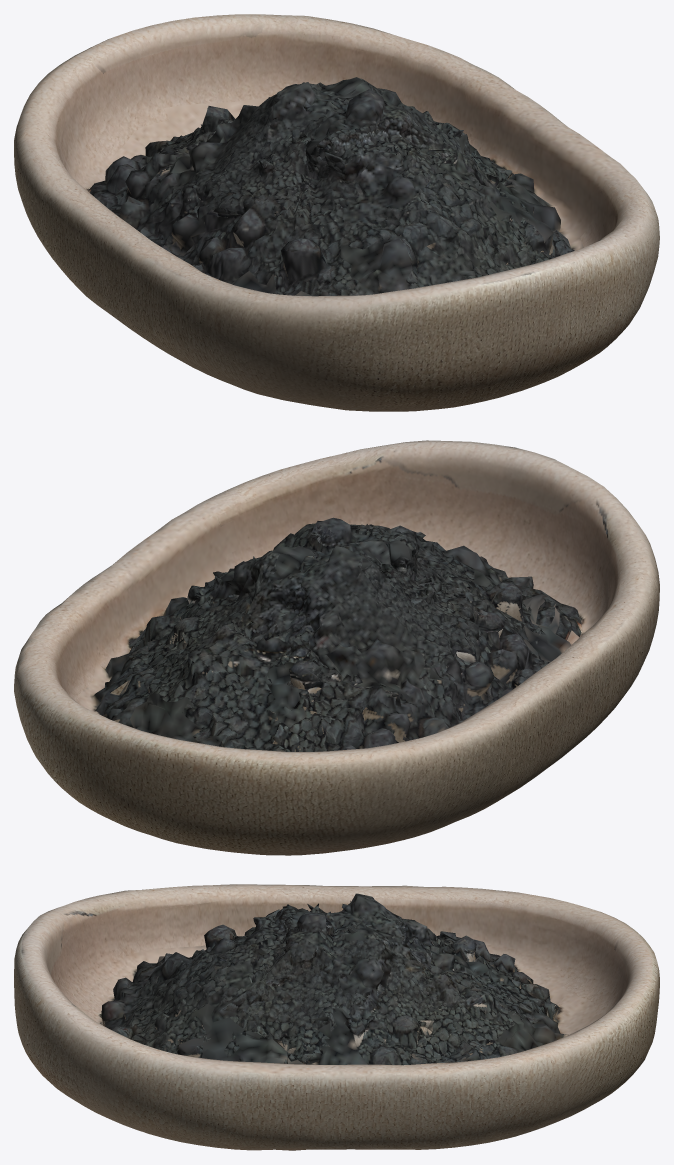
Rendered from Prop_PowderDish_Black.fbx.
3 views of the same model, one above another, from view 1: azimuth 30°, elevation 25°; view 2: azimuth 150°, elevation 25°; view 3: azimuth 270°, elevation 25° (orthographic). The views are drawn at different scales.
Parts seen in each view (by area): view 1: texture_mapping; view 2: texture_mapping; view 3: texture_mapping.
Boxes of the visible parts, x1,y1,x2,y2 form: texture_mapping: (14,14,659,411); texture_mapping: (14,440,659,855); texture_mapping: (14,884,659,1150).
Bounding box in the file's own units: 0.709 × 0.9994 × 0.3085.
1 material, 1 textured.
